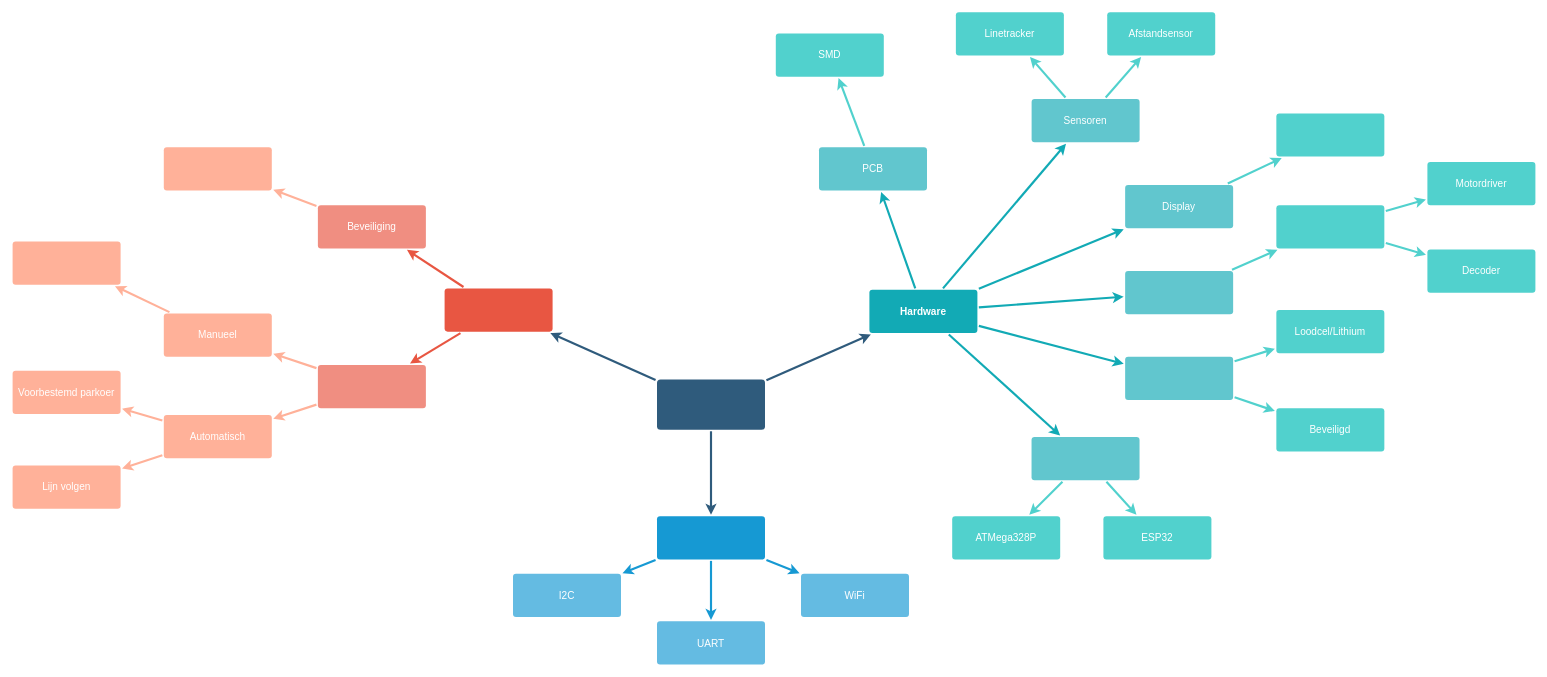
Image size: 1547x677. Some labels were removed from this diagram. Each missing label, with the centre of its shape:
"Actuatoren" belongs at point 1179,292.
"Batterij" belongs at point 1179,378.
"Besturing" belongs at point 372,386.
"Communicatie" belongs at point 711,537.
"MCU" belongs at point 1085,458.
"Motoren" belongs at point 1330,226.
"Node-RED" belongs at point 66,262.
"OLED" belongs at point 1330,134.
"Robotwagen" belongs at point 711,404.
"Software" belongs at point 498,309.
"Wachtwoord/Code" belongs at point 217,168.
